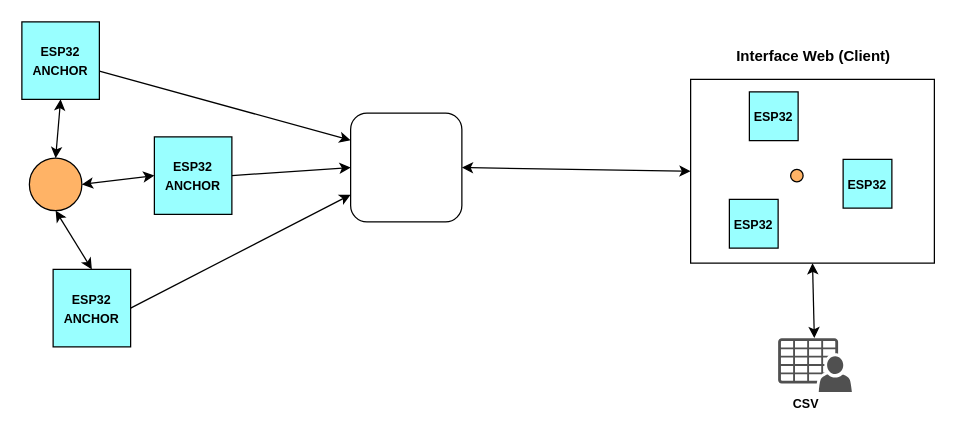
Some shapes in this 956 by 441 pixel diagram are drawn without their labels. Each missing label, with the box of its shape:
ESP32 TAG: (28, 157, 82, 211)
Serveur Node.js: (349, 112, 462, 222)
